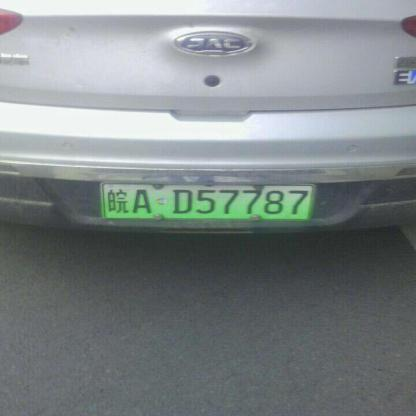lp: (101, 182, 313, 218)
